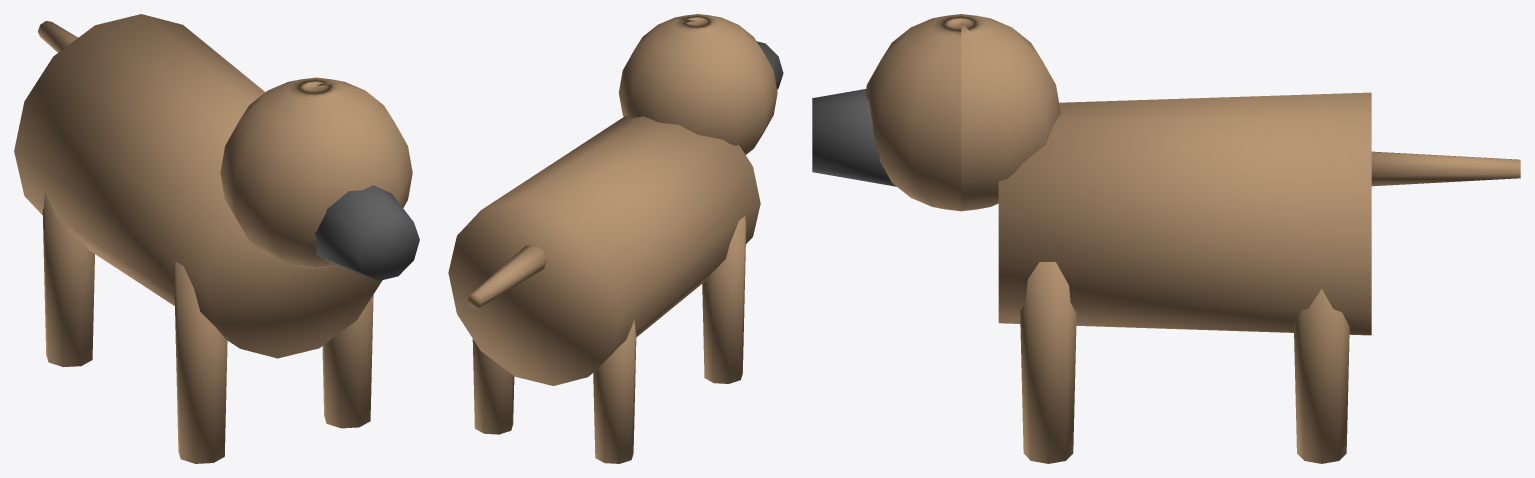
File: 6c3314de-55e1-477d-bdd8-426641559883.glb
The picture shows the model from 3 angles, left to right: view 1: azimuth 30°, elevation 25°; view 2: azimuth 150°, elevation 25°; view 3: azimuth 270°, elevation 25°; orthographic projection. The views are drawn at different scales.
Visible parts, largest first — view 1: Generated3DMesh; view 2: Generated3DMesh; view 3: Generated3DMesh.
Part boxes in pixels (x1=…): Generated3DMesh: x1=14, y1=14, x2=419, y2=463; Generated3DMesh: x1=448, y1=14, x2=783, y2=463; Generated3DMesh: x1=812, y1=14, x2=1520, y2=463.
Bounding box in the file's own units: 1 × 1.75 × 2.85.
